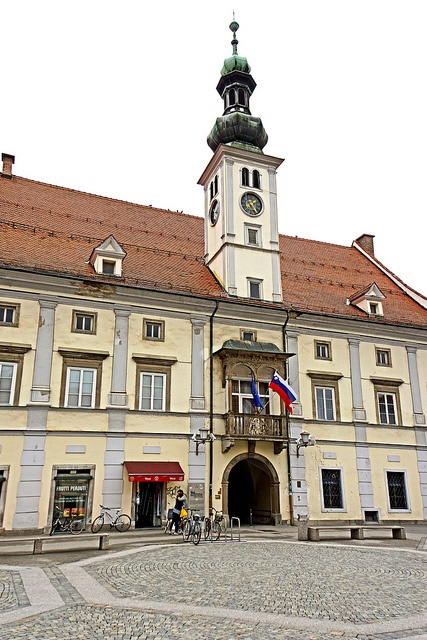non-vehicle: (90, 504, 131, 532), (50, 505, 83, 534), (180, 506, 202, 545), (203, 504, 224, 542), (164, 509, 173, 532)
